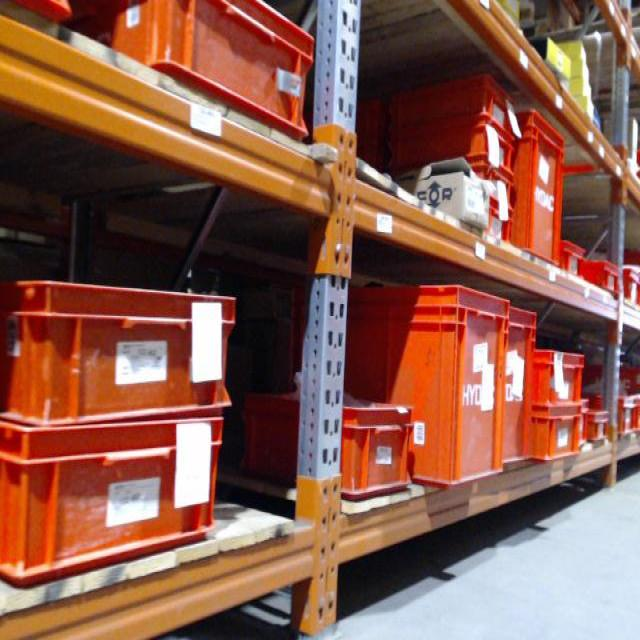small_load_carrier: (3, 276, 235, 423), (5, 419, 222, 576), (345, 287, 503, 493), (111, 2, 314, 143), (246, 381, 406, 505), (390, 77, 523, 139), (515, 103, 561, 268), (385, 129, 515, 184), (505, 305, 536, 472), (530, 406, 585, 460), (533, 352, 586, 408), (589, 394, 639, 438), (591, 363, 640, 402), (481, 196, 511, 243), (560, 239, 588, 281), (592, 259, 621, 298), (586, 409, 610, 443), (622, 264, 639, 312)
